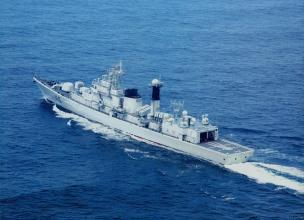warship: (26, 61, 257, 166)
